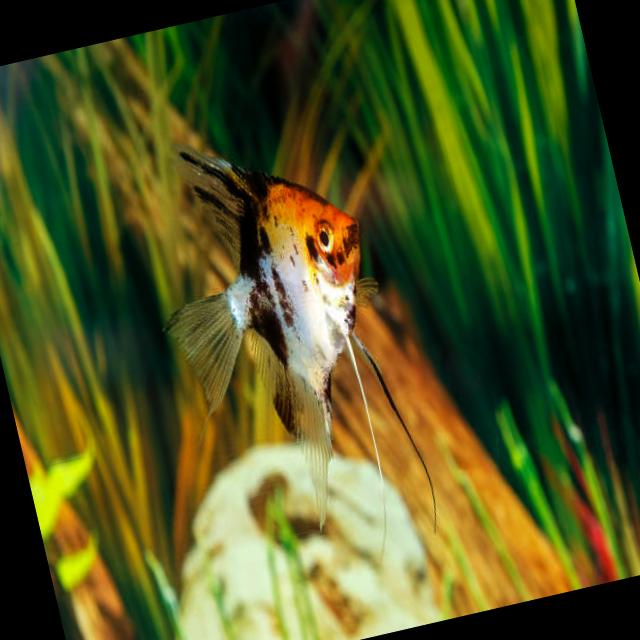AngelFish: (124, 103, 442, 581)
